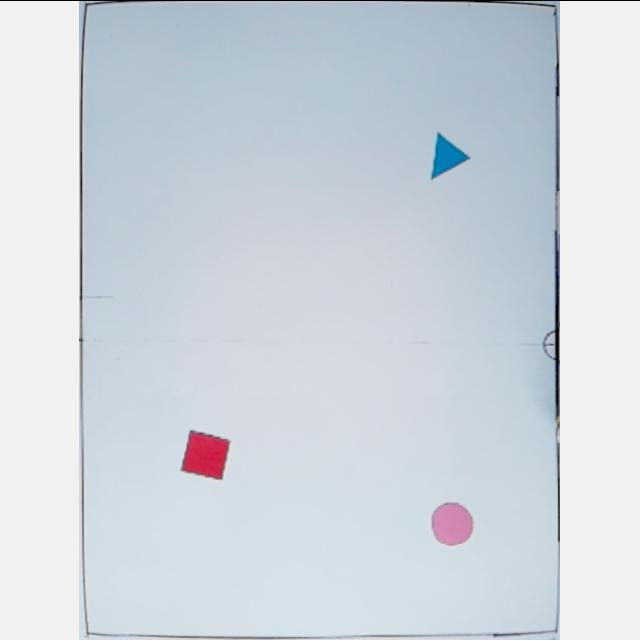blueTriangle: (429, 128, 473, 180)
pinkCircle: (432, 500, 476, 546)
redSquare: (181, 427, 233, 479)
